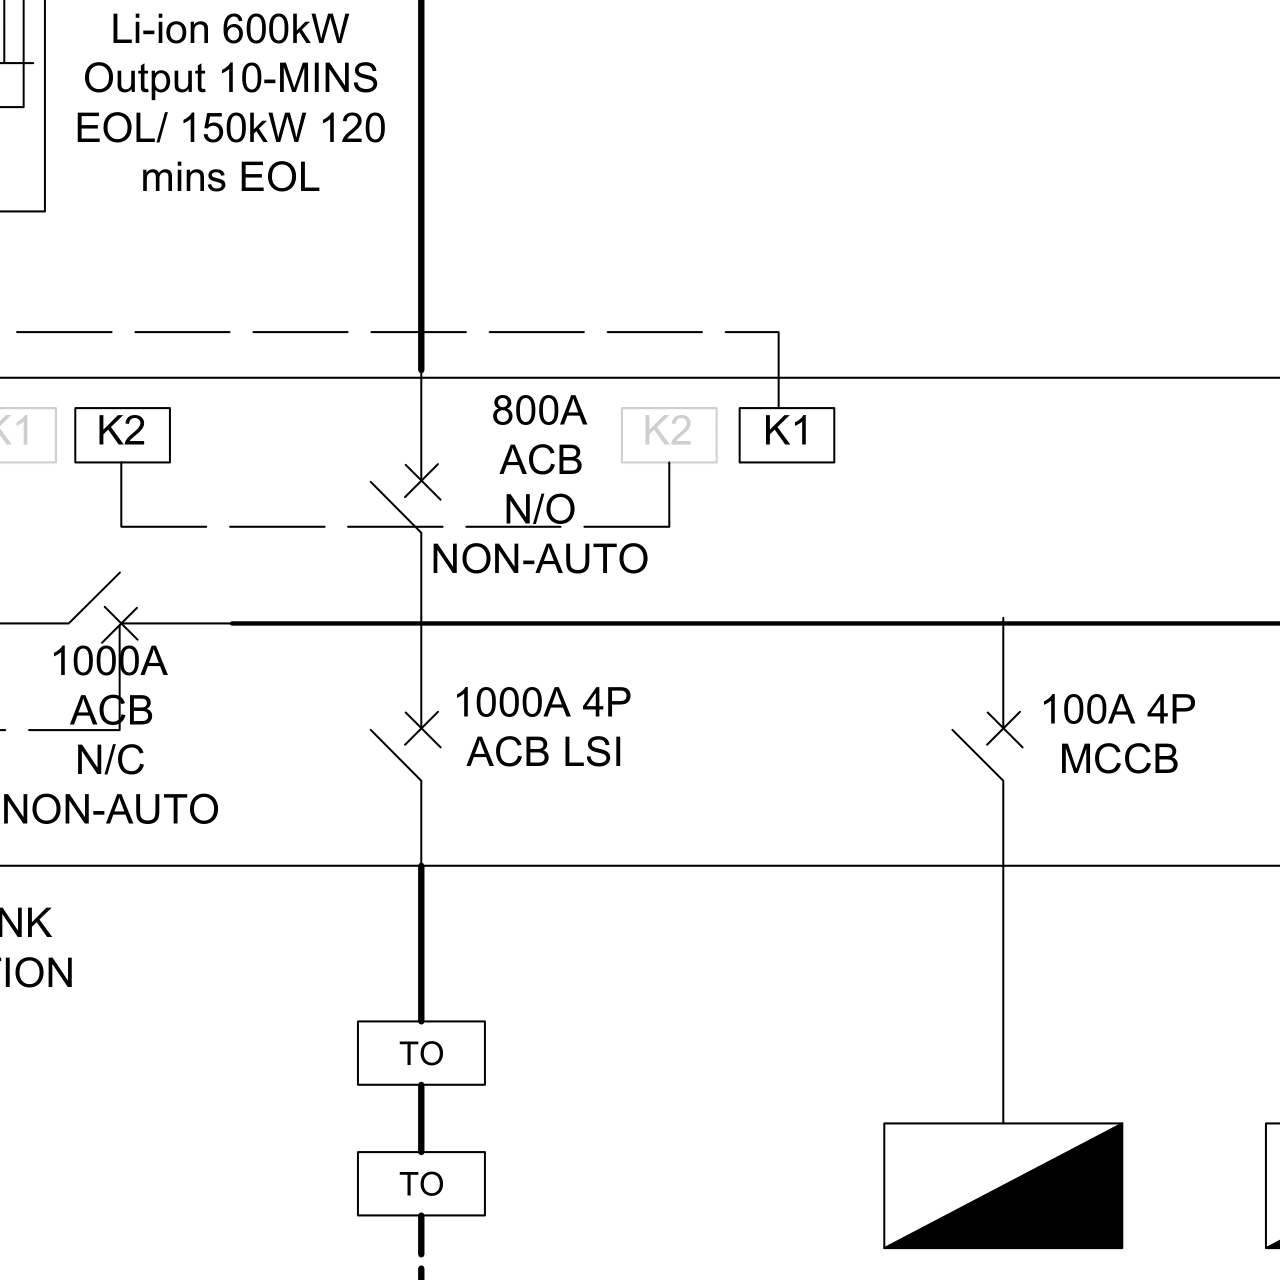Distribution Board: (864, 1109, 1143, 1262)
